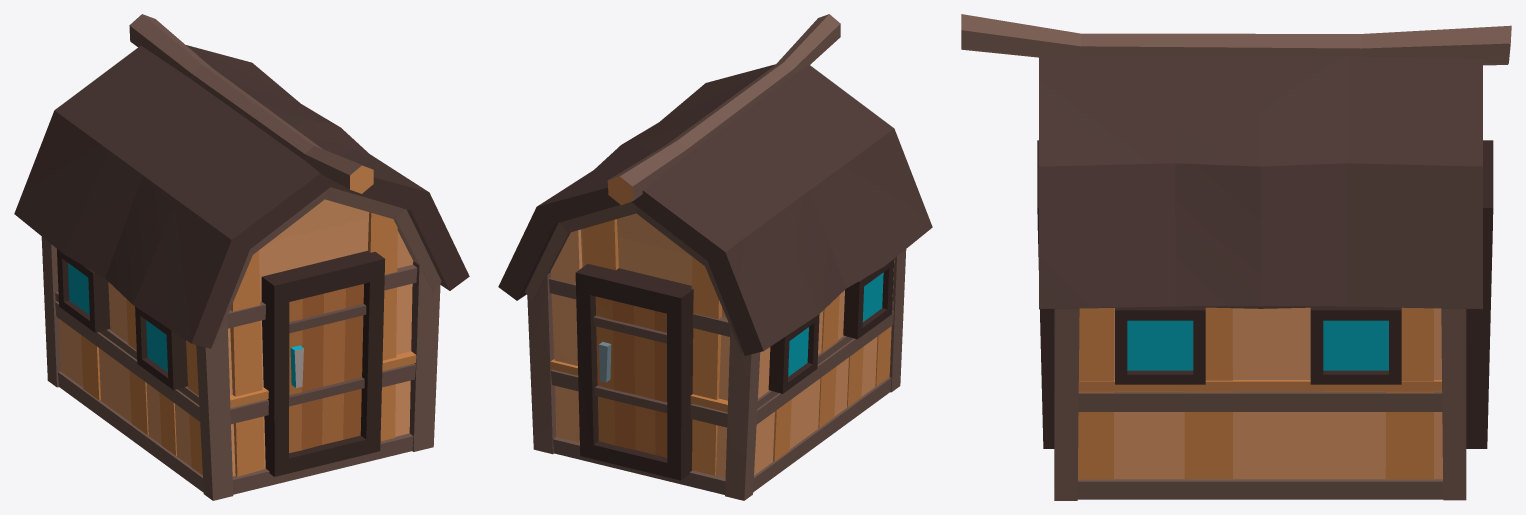
File: House_1-1.fbx
3 views of the same model, side by side, from view 1: azimuth 30°, elevation 25°; view 2: azimuth 150°, elevation 25°; view 3: azimuth 270°, elevation 25° (orthographic). The views are drawn at different scales.
Parts seen in each view (by area): view 1: Village_BG_Bd_Dock01_A; view 2: Village_BG_Bd_Dock01_A; view 3: Village_BG_Bd_Dock01_A.
Boxes of the visible parts, <box> form: Village_BG_Bd_Dock01_A: <box>14,14,469,500</box>; Village_BG_Bd_Dock01_A: <box>498,14,932,500</box>; Village_BG_Bd_Dock01_A: <box>961,14,1511,500</box>.
Size of the model in its own units: 321 by 365 by 433.
